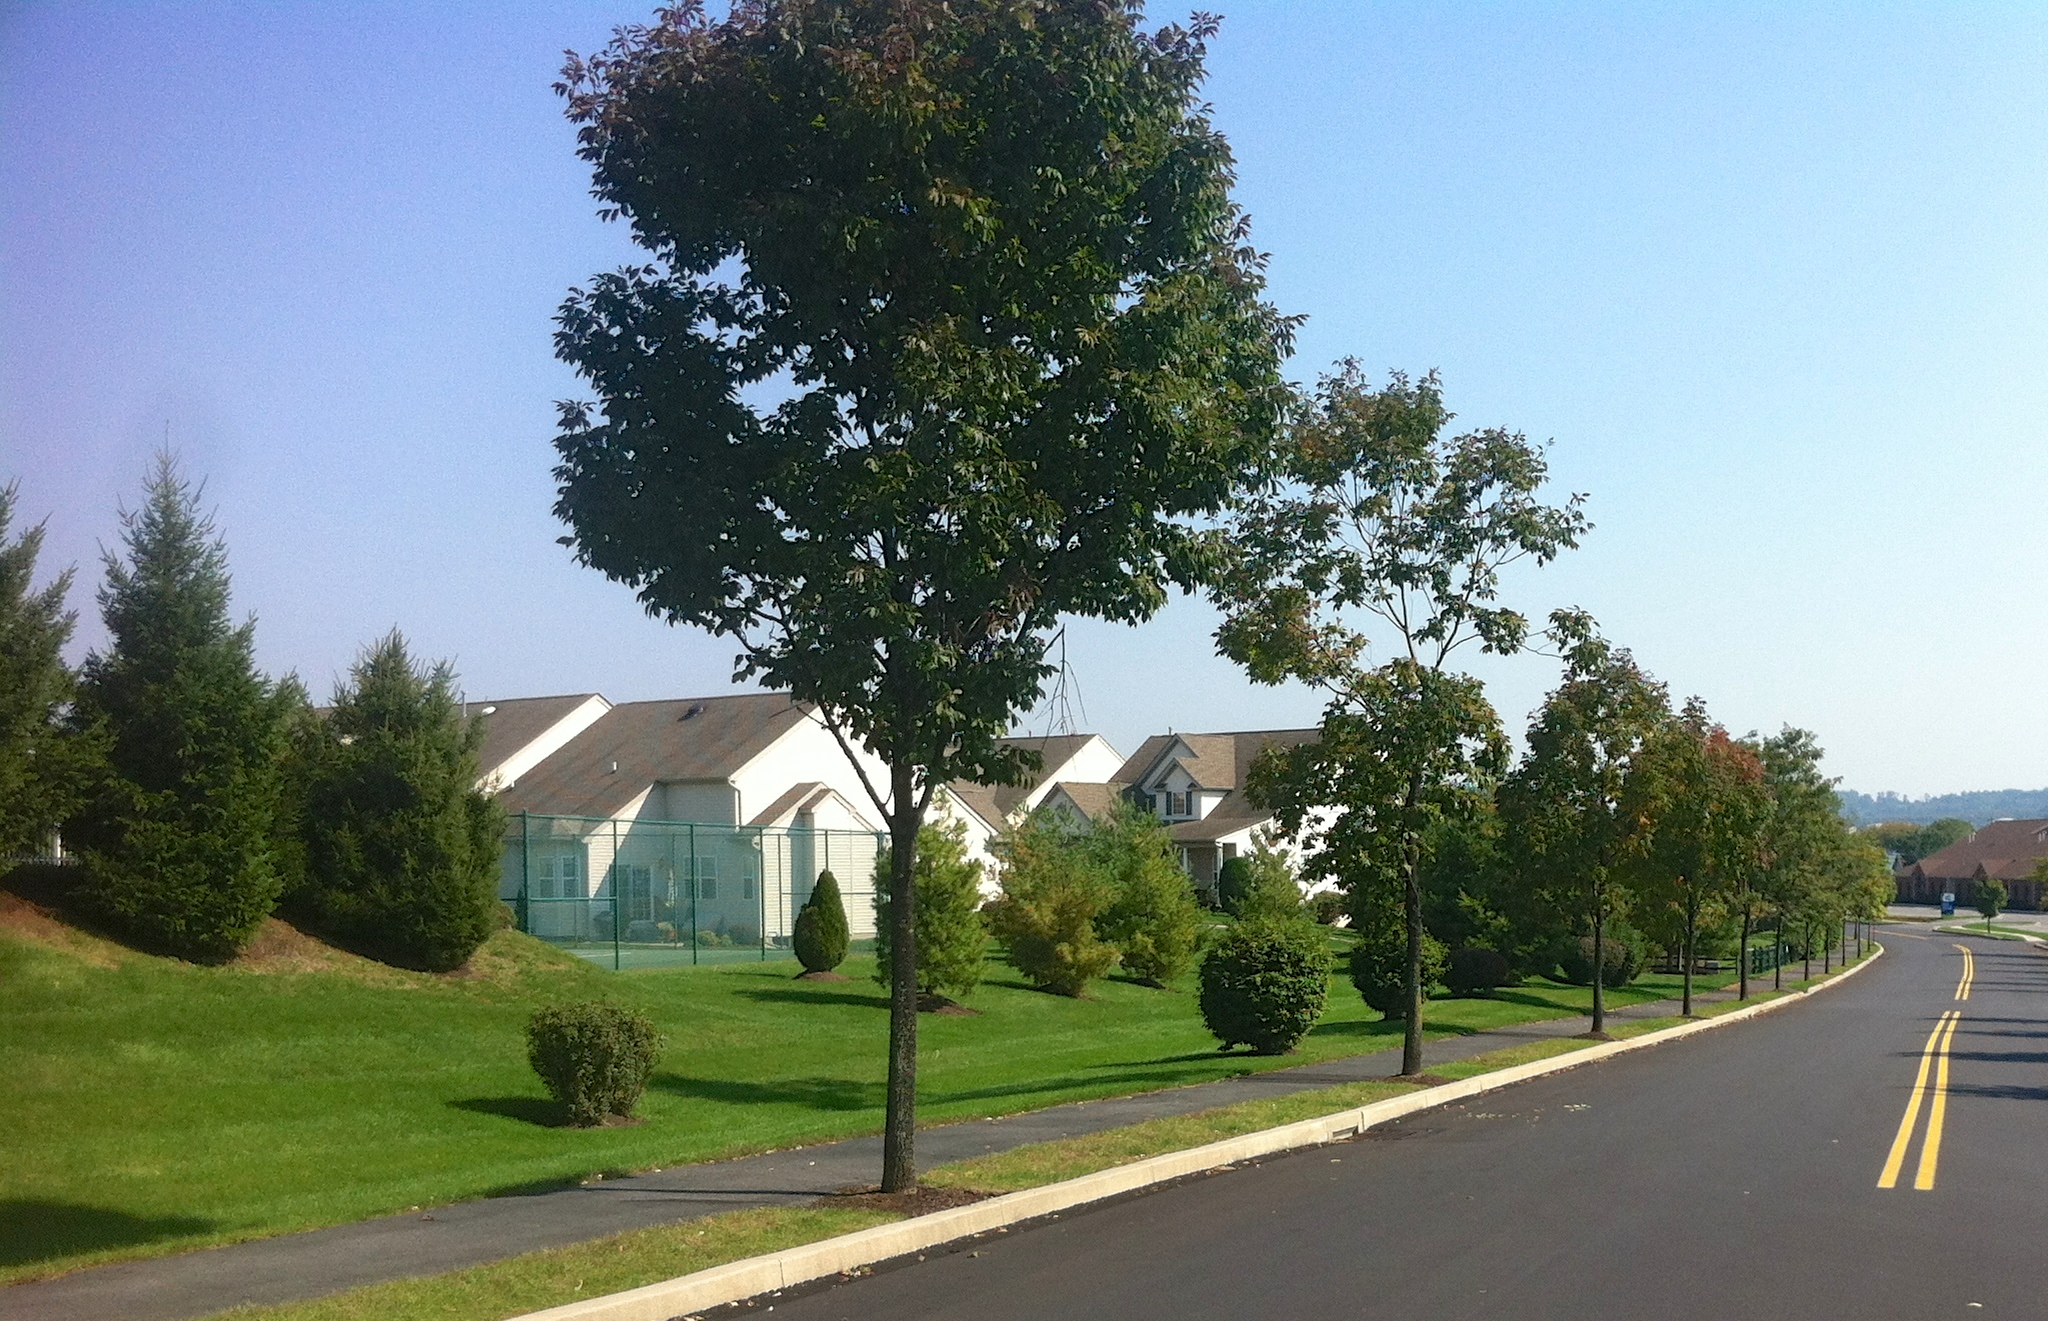tree: (548, 1, 1309, 1194), (1202, 351, 1596, 1081)
